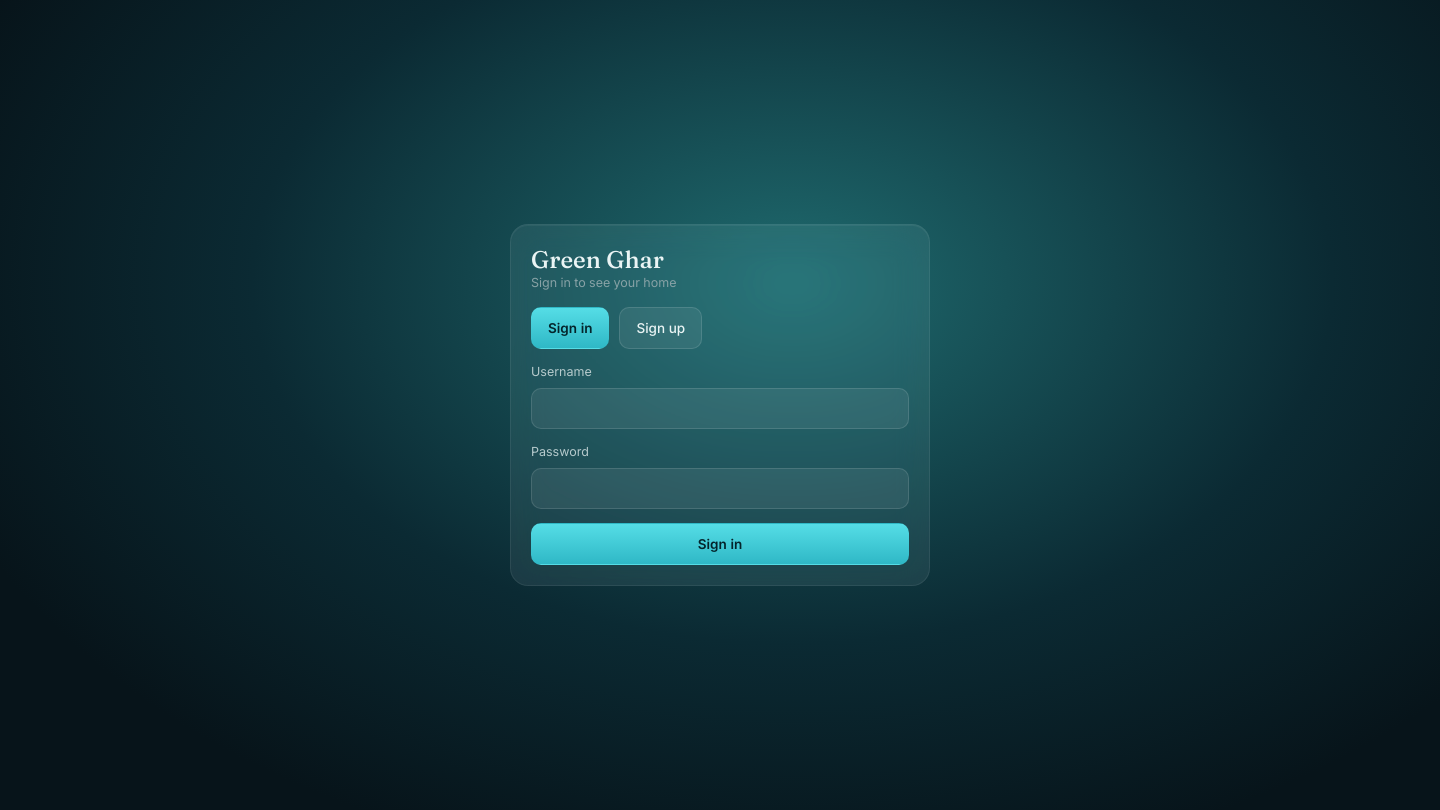
Test: sign-up blocks mismatched passwords before any request
Click the tab "Sign up" at (661, 328), box [619, 307, 702, 349]
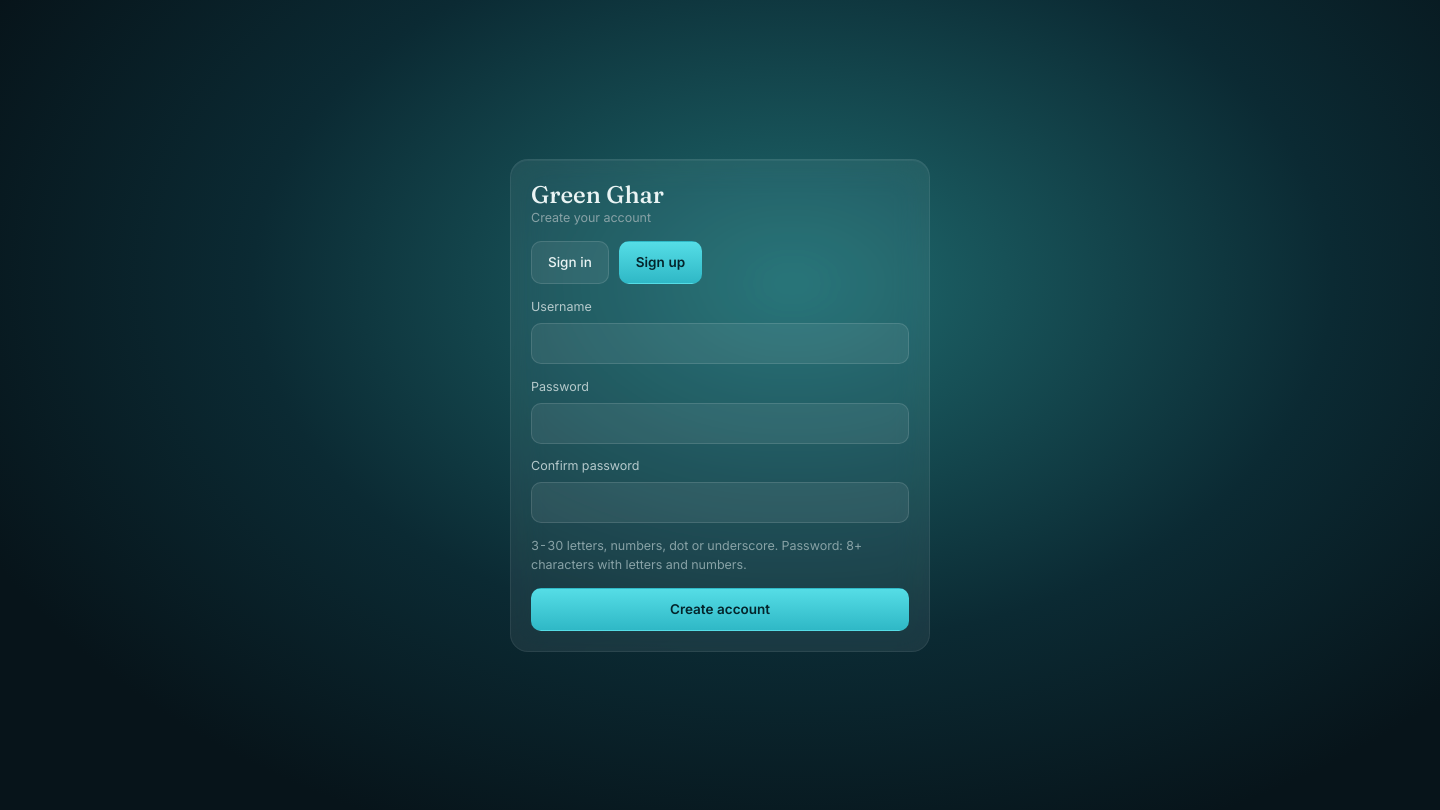
Type "asha" into the field labelled "Username" at (720, 343), box [531, 322, 909, 363]
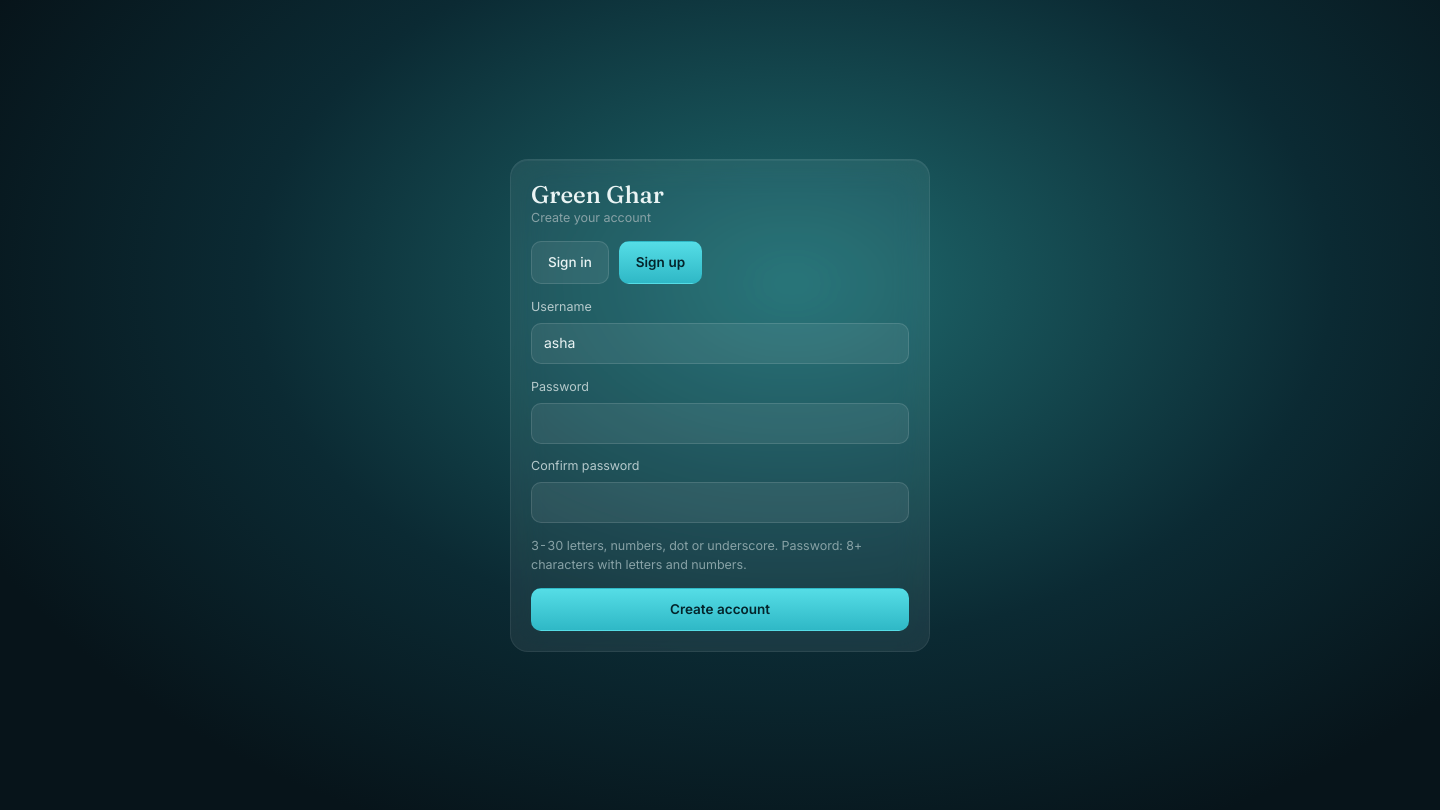
Type "monsoon2026" into the password field labelled "Password" at (720, 422), box [531, 402, 909, 443]
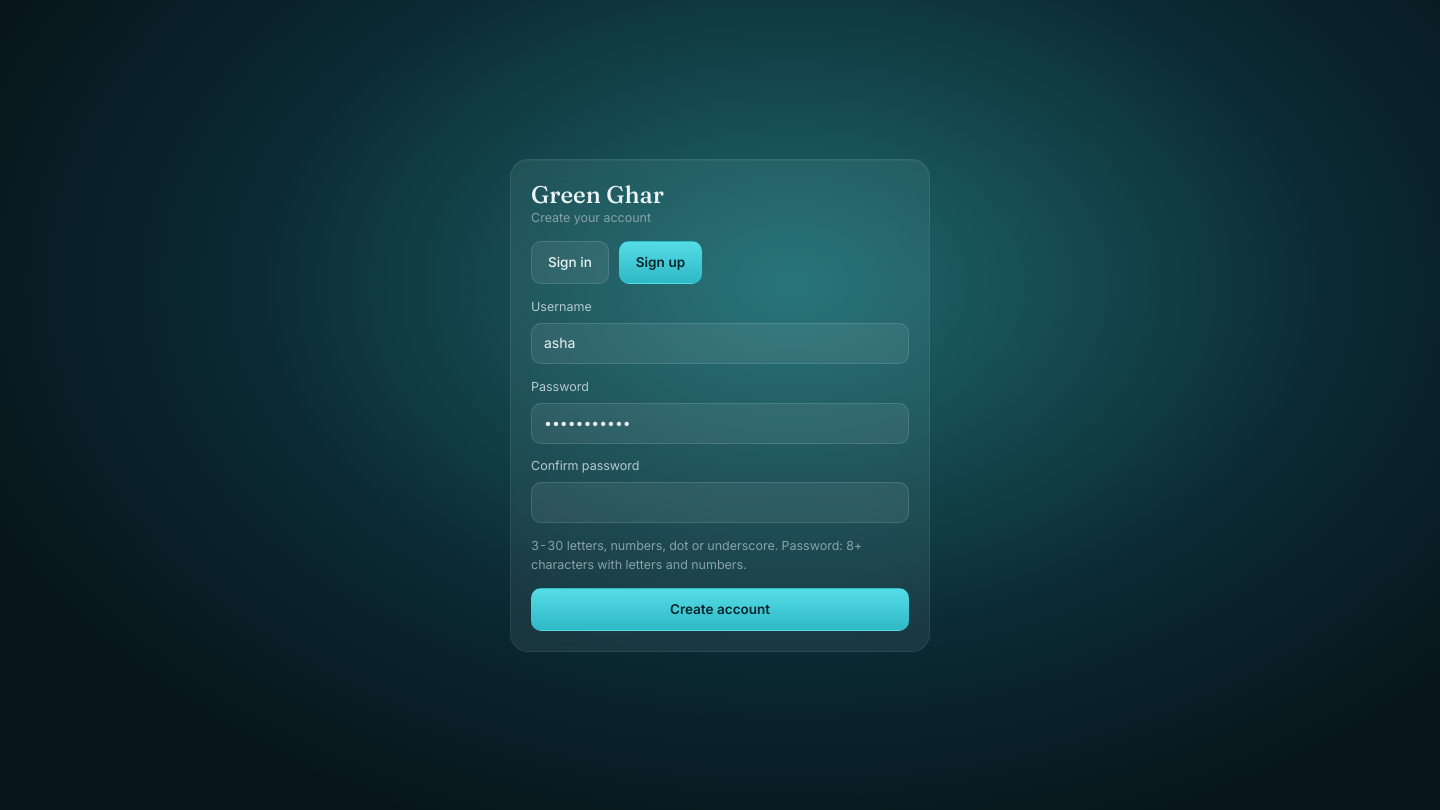
Type "monsoon2027" into the password field labelled "Confirm password" at (720, 502), box [531, 482, 909, 523]
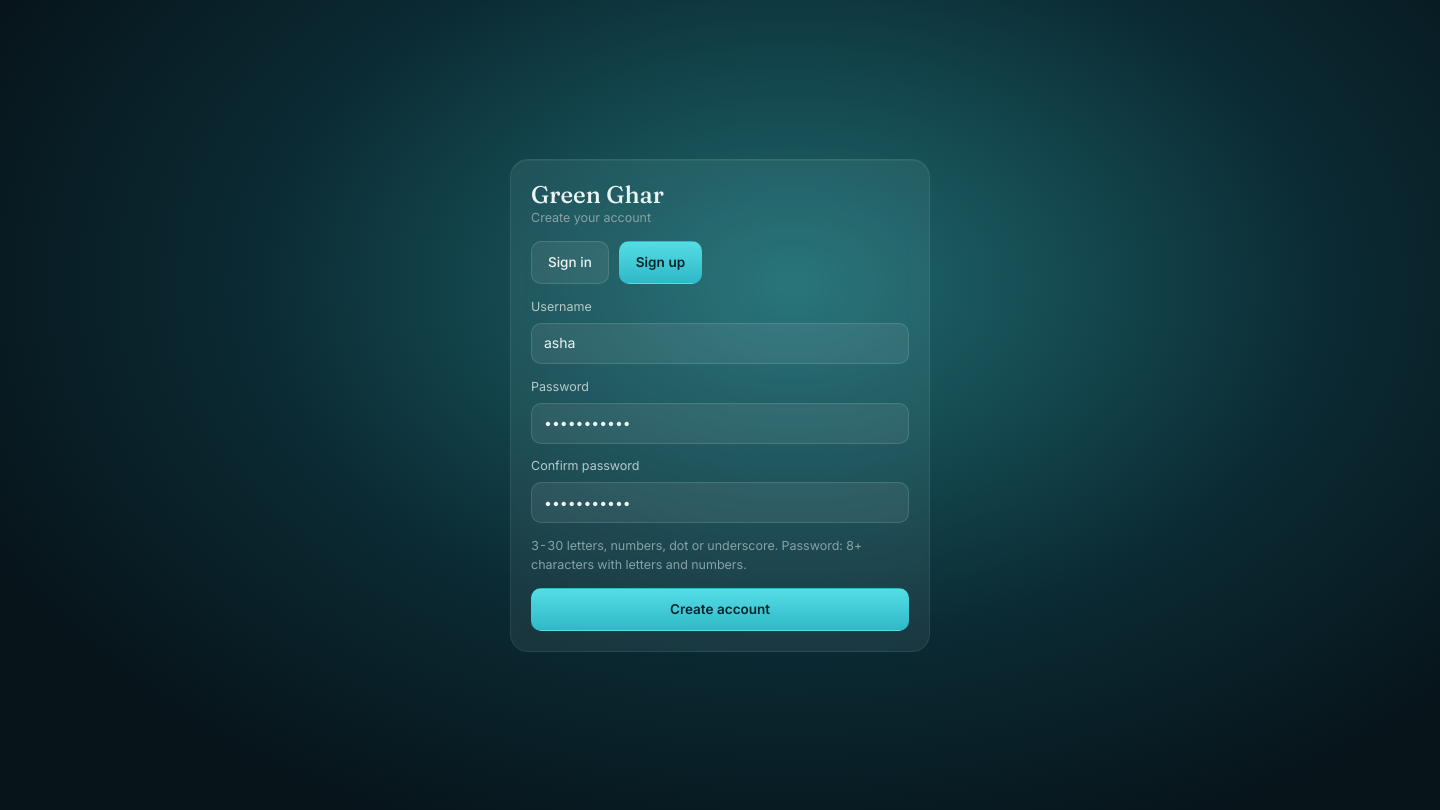
Click the button "Create account" at (720, 609), box [531, 588, 909, 631]
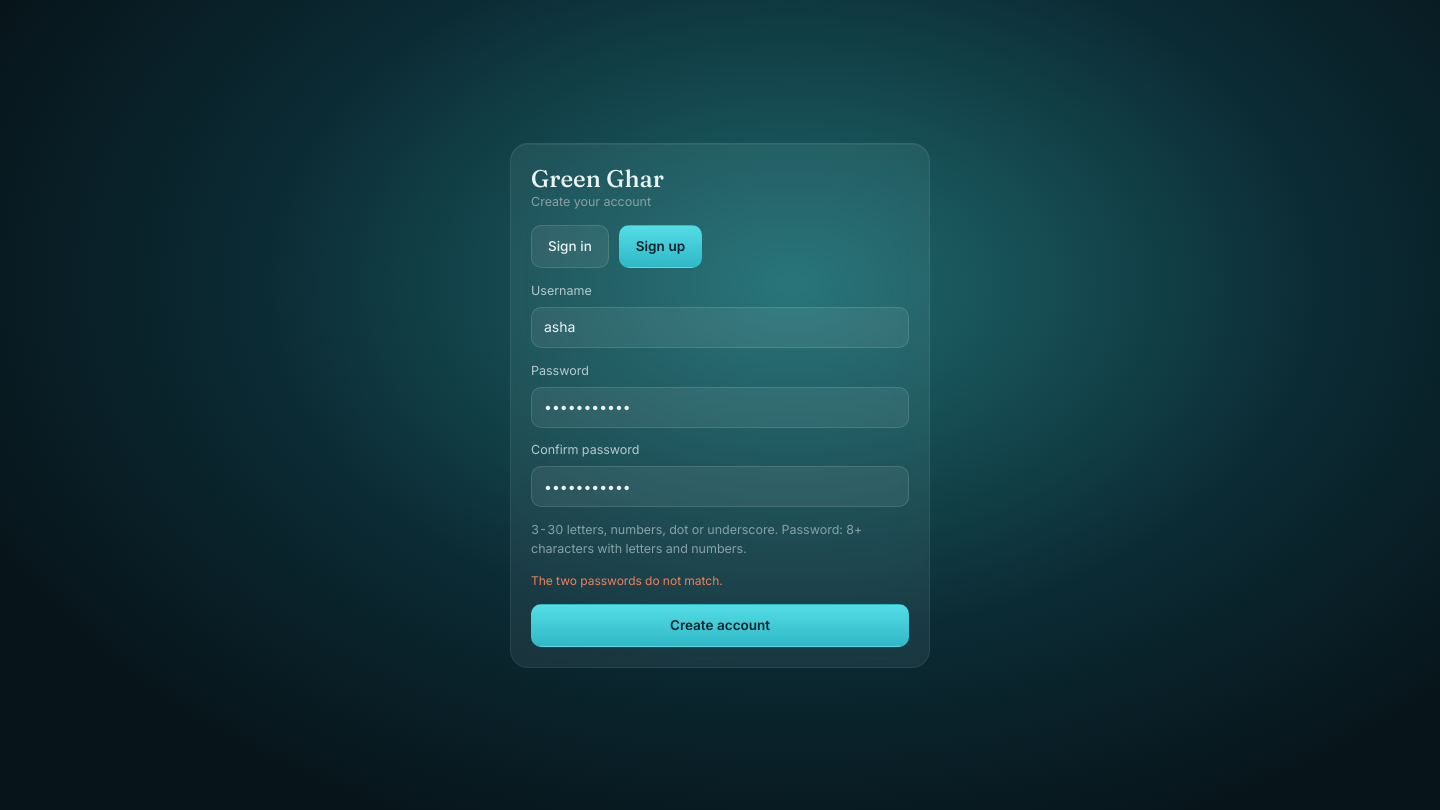
expect the message shows "do not match": met, box [531, 573, 722, 588]
